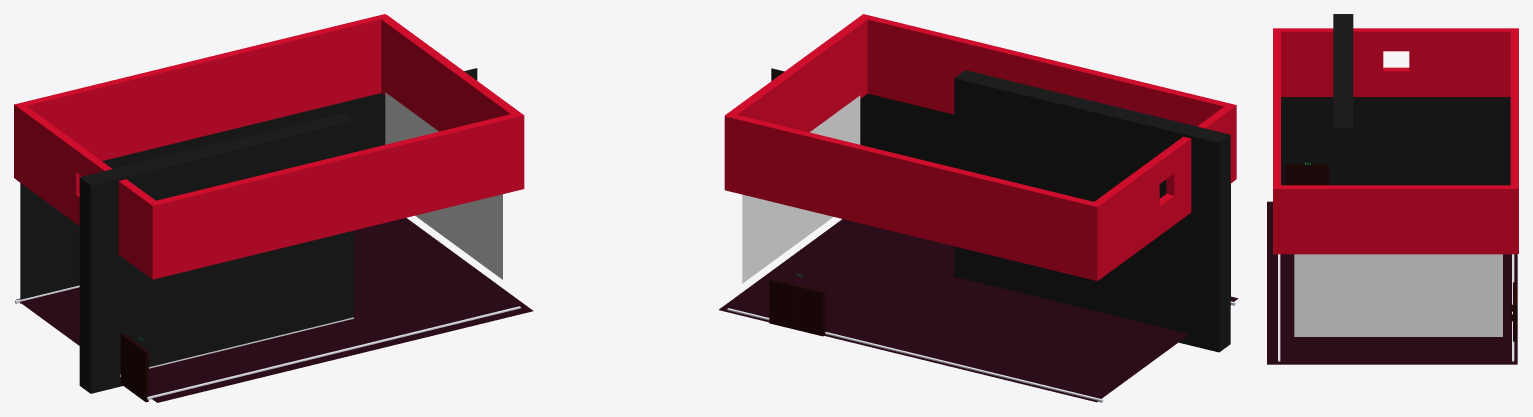
3 views of the same model, side by side, from view 1: azimuth 30°, elevation 25°; view 2: azimuth 150°, elevation 25°; view 3: azimuth 270°, elevation 25° (orthographic). The views are drawn at different scales.
Parts seen in each view (by area): view 1: Cube.006, Cube.002, Cube.001, Plane.177, Plane.121, Cube, Plane.187, Cube.003, Cube.005; view 2: Cube.006, Plane.177, Cube.001, Cube.002, Cube, Plane.187, Plane.121, Cube.004, Cube.003; view 3: Cube.002, Plane.121, Plane.187, Cube, Plane.177, Cube.006, Cube.001, Cube.005, Cube.003, Cube.004.
Boxes of the visible parts, box(x1,y1,x2,y2) form: Cube.006: box(79, 113, 354, 393); Cube.002: box(149, 14, 524, 279); Cube.001: box(14, 14, 387, 179); Plane.177: box(16, 218, 533, 402); Plane.121: box(20, 68, 477, 303); Cube: box(17, 106, 156, 276); Plane.187: box(385, 92, 502, 279); Cube.003: box(15, 285, 520, 400); Cube.005: box(120, 333, 148, 402); Cube.006: box(954, 70, 1230, 352); Plane.177: box(719, 219, 1238, 402); Cube.001: box(724, 113, 1101, 280); Cube.002: box(725, 14, 1236, 181); Cube: box(1094, 106, 1233, 278); Plane.187: box(742, 95, 860, 283); Plane.121: box(771, 68, 1230, 305); Cube.004: box(769, 278, 825, 336); Cube.003: box(727, 301, 1235, 402); Cube.002: box(1273, 28, 1516, 254); Plane.121: box(1281, 97, 1510, 185); Plane.187: box(1294, 254, 1502, 336); Cube: box(1280, 28, 1511, 96); Plane.177: box(1267, 201, 1517, 364); Cube.006: box(1333, 14, 1353, 185); Cube.001: box(1510, 28, 1518, 253); Cube.005: box(1285, 163, 1329, 185); Cube.003: box(1278, 254, 1514, 361); Cube.004: box(1511, 282, 1517, 342).
Bounding box in the file's own units: 1253 × 512 × 631.
